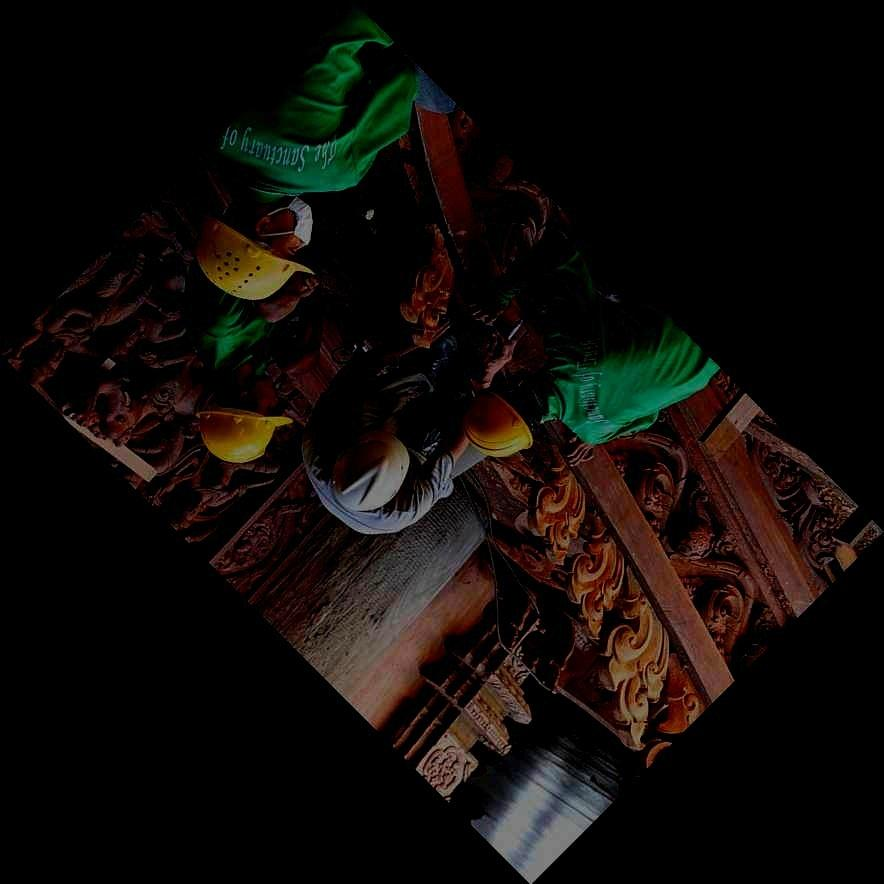helmet: (195, 190, 316, 300), (195, 368, 294, 464), (333, 420, 410, 511), (463, 377, 543, 457)
